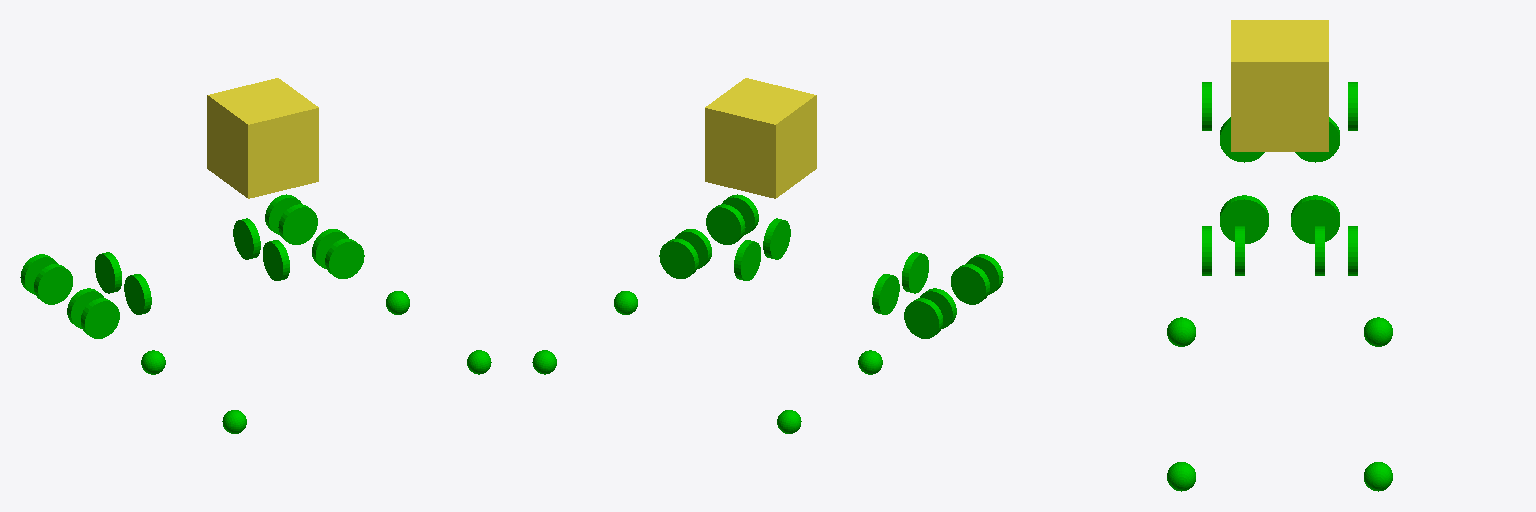
--- Facts derived from the render (not from the file) ---
3 views of the same robot in one strip: view 1: azimuth 30°, elevation 25°; view 2: azimuth 150°, elevation 25°; view 3: azimuth 270°, elevation 25° (orthographic).
Robot: b1_description — 32 links, 31 joints (12 revolute, 19 fixed); root link base_link; default pose: all joints at 0 but 4 set to mid-range because 0 is outside their limits (FR_calf_joint = -1.6, FL_calf_joint = -1.6, RR_calf_joint = -1.6, RL_calf_joint = -1.6).
Links seen in each view (by area): view 1: rslidar, FL_thigh_rotor, RL_thigh_rotor, RR_calf_rotor, FR_calf_rotor, RR_hip_rotor, FL_hip_rotor, RL_hip_rotor, FR_hip_rotor, RR_thigh_rotor, FL_calf_rotor, RL_calf_rotor (+1 smaller); view 2: rslidar, FR_thigh_rotor, RR_thigh_rotor, RL_calf_rotor, FL_calf_rotor, RL_hip_rotor, FR_hip_rotor, RR_hip_rotor, FL_hip_rotor, RL_thigh_rotor, FR_calf_rotor, RR_calf_rotor (+1 smaller); view 3: rslidar, FR_hip_rotor, FL_hip_rotor, RR_foot, RL_foot, FR_foot, FL_foot, RR_hip_rotor, RL_hip_rotor.
Boxes of the visible links, <box> form: rslidar: <box>207,78,318,198</box>; FL_thigh_rotor: <box>278,204,317,244</box>; RL_thigh_rotor: <box>34,264,72,304</box>; RR_calf_rotor: <box>81,298,119,338</box>; FR_calf_rotor: <box>325,238,364,278</box>; RR_hip_rotor: <box>124,274,151,314</box>; FL_hip_rotor: <box>233,218,260,259</box>; RL_hip_rotor: <box>95,252,121,293</box>; FR_hip_rotor: <box>263,240,289,280</box>; RR_thigh_rotor: <box>67,288,103,328</box>; FL_calf_rotor: <box>265,194,301,234</box>; RL_calf_rotor: <box>20,254,57,294</box>; rslidar: <box>705,78,816,198</box>; FR_thigh_rotor: <box>706,204,745,244</box>; RR_thigh_rotor: <box>951,264,989,304</box>; RL_calf_rotor: <box>904,298,942,338</box>; FL_calf_rotor: <box>659,238,698,278</box>; RL_hip_rotor: <box>872,274,899,314</box>; FR_hip_rotor: <box>763,218,790,259</box>; RR_hip_rotor: <box>902,252,928,293</box>; FL_hip_rotor: <box>734,240,760,280</box>; RL_thigh_rotor: <box>920,288,956,328</box>; FR_calf_rotor: <box>722,194,758,234</box>; RR_calf_rotor: <box>966,254,1003,294</box>; rslidar: <box>1231,20,1328,151</box>; FR_hip_rotor: <box>1220,195,1268,243</box>; FL_hip_rotor: <box>1291,195,1339,243</box>; RR_foot: <box>1167,317,1195,346</box>; RL_foot: <box>1364,317,1392,346</box>; FR_foot: <box>1167,462,1195,491</box>; FL_foot: <box>1364,462,1392,491</box>; RR_hip_rotor: <box>1220,117,1264,162</box>; RL_hip_rotor: <box>1295,117,1339,162</box>.
Bounding box of the posed robot: 1.12 × 0.4575 × 0.7698 m (x, y, z).
0 mesh visuals loaded from 5 distinct referenced files (none loaded); not drawn: 13 (reference not matched to a file when rendering).

URDF robot description (b1_description):
<?xml version="1.0" ?>
<!-- =================================================================================== -->
<!-- |    This document was autogenerated by xacro from robot.xacro                    | -->
<!-- |    EDITING THIS FILE BY HAND IS NOT RECOMMENDED                                 | -->
<!-- =================================================================================== -->
<robot name="b1_description">
  <material name="black">
    <color rgba="0.0 0.0 0.0 1.0"/>
  </material>
  <material name="blue">
    <color rgba="0.0 0.0 0.8 1.0"/>
  </material>
  <material name="green">
    <color rgba="0.0 0.8 0.0 1.0"/>
  </material>
  <material name="grey">
    <color rgba="0.2 0.2 0.2 1.0"/>
  </material>
  <material name="silver">
    <color rgba="0.9137254901960784 0.9137254901960784 0.8470588235294118 1.0"/>
  </material>
  <material name="orange">
    <color rgba="1.0 0.4235294117647059 0.0392156862745098 1.0"/>
  </material>
  <material name="brown">
    <color rgba="0.8705882352941177 0.8117647058823529 0.7647058823529411 1.0"/>
  </material>
  <material name="red">
    <color rgba="0.8 0.0 0.0 1.0"/>
  </material>
  <material name="white">
    <color rgba="1.0 1.0 1.0 1.0"/>
  </material>
  <!-- ros_control plugin -->
  <gazebo>
    <plugin filename="libgazebo_ros_control.so" name="gazebo_ros_control">
      <robotNamespace>/b1_gazebo</robotNamespace>
      <robotSimType>gazebo_ros_control/DefaultRobotHWSim</robotSimType>
    </plugin>
  </gazebo>
  <!-- Show the trajectory of trunk center. -->
  <gazebo>
    <plugin filename="libLinkPlot3DPlugin.so" name="3dplot">
      <frequency>10</frequency>
      <plot>
        <link>base</link>
        <pose>0 0 0 0 0 0</pose>
        <material>Gazebo/Yellow</material>
      </plot>
    </plugin>
  </gazebo>
  <!-- Show the trajectory of foot. You can add another trajectory about another foot. -->
  <!-- <gazebo>
        <plugin name="3dplot" filename="libLinkPlot3DPlugin.so">
            <frequency>100</frequency>
            <plot>
                <link>FL_foot</link>
                <pose>0 0 0 0 0 0</pose>
                <material>Gazebo/Green</material>
            </plot>
        </plugin>
    </gazebo> -->
  <gazebo>
    <plugin filename="libgazebo_ros_force.so" name="gazebo_ros_force">
      <bodyName>trunk</bodyName>
      <topicName>/apply_force/trunk</topicName>
    </plugin>
  </gazebo>
  <gazebo reference="imu_link">
    <gravity>true</gravity>
    <sensor name="imu_sensor" type="imu">
      <always_on>true</always_on>
      <update_rate>1000</update_rate>
      <visualize>true</visualize>
      <topic>__default_topic__</topic>
      <plugin filename="libgazebo_ros_imu_sensor.so" name="imu_plugin">
        <topicName>trunk_imu</topicName>
        <bodyName>imu_link</bodyName>
        <updateRateHZ>1000.0</updateRateHZ>
        <gaussianNoise>0.0</gaussianNoise>
        <xyzOffset>0 0 0</xyzOffset>
        <rpyOffset>0 0 0</rpyOffset>
        <frameName>imu_link</frameName>
      </plugin>
      <pose>0 0 0 0 0 0</pose>
    </sensor>
  </gazebo>
  <!-- Foot contacts. -->
  <gazebo reference="FR_calf">
    <sensor name="FR_foot_contact" type="contact">
      <update_rate>100</update_rate>
      <plugin filename="libunitreeFootContactPlugin.so" name="contactPlugin"/>
      <contact>
        <collision>FR_calf_fixed_joint_lump__FR_foot_collision_1</collision>
      </contact>
    </sensor>
  </gazebo>
  <gazebo reference="FL_calf">
    <sensor name="FL_foot_contact" type="contact">
      <update_rate>100</update_rate>
      <plugin filename="libunitreeFootContactPlugin.so" name="contactPlugin"/>
      <contact>
        <collision>FL_calf_fixed_joint_lump__FL_foot_collision_1</collision>
      </contact>
    </sensor>
  </gazebo>
  <gazebo reference="RR_calf">
    <sensor name="RR_foot_contact" type="contact">
      <update_rate>100</update_rate>
      <plugin filename="libunitreeFootContactPlugin.so" name="contactPlugin"/>
      <contact>
        <collision>RR_calf_fixed_joint_lump__RR_foot_collision_1</collision>
      </contact>
    </sensor>
  </gazebo>
  <gazebo reference="RL_calf">
    <sensor name="RL_foot_contact" type="contact">
      <update_rate>100</update_rate>
      <plugin filename="libunitreeFootContactPlugin.so" name="contactPlugin"/>
      <contact>
        <collision>RL_calf_fixed_joint_lump__RL_foot_collision_1</collision>
      </contact>
    </sensor>
  </gazebo>
  <!-- Visualization of Foot contacts. -->
  <gazebo reference="FR_foot">
    <visual>
      <plugin filename="libunitreeDrawForcePlugin.so" name="drawForcePlugin">
        <topicName>FR_foot_contact</topicName>
      </plugin>
    </visual>
  </gazebo>
  <gazebo reference="FL_foot">
    <visual>
      <plugin filename="libunitreeDrawForcePlugin.so" name="drawForcePlugin">
        <topicName>FL_foot_contact</topicName>
      </plugin>
    </visual>
  </gazebo>
  <gazebo reference="RR_foot">
    <visual>
      <plugin filename="libunitreeDrawForcePlugin.so" name="drawForcePlugin">
        <topicName>RR_foot_contact</topicName>
      </plugin>
    </visual>
  </gazebo>
  <gazebo reference="RL_foot">
    <visual>
      <plugin filename="libunitreeDrawForcePlugin.so" name="drawForcePlugin">
        <topicName>RL_foot_contact</topicName>
      </plugin>
    </visual>
  </gazebo>
  <gazebo reference="base">
    <material>Gazebo/Green</material>
    <turnGravityOff>false</turnGravityOff>
  </gazebo>
  <gazebo reference="trunk">
    <mu1>0.2</mu1>
    <mu2>0.2</mu2>
    <kp value="1000000.0"/>
    <kd value="1.0"/>
  </gazebo>
  <gazebo reference="stick_link">
    <mu1>0.2</mu1>
    <mu2>0.2</mu2>
    <material>Gazebo/White</material>
  </gazebo>
  <gazebo reference="imu_link">
    <mu1>0.2</mu1>
    <mu2>0.2</mu2>
    <material>Gazebo/Red</material>
  </gazebo>
  <!-- FL leg -->
  <gazebo reference="FL_hip">
    <mu1>0.2</mu1>
    <mu2>0.2</mu2>
    <material>Gazebo/DarkGrey</material>
  </gazebo>
  <gazebo reference="FL_thigh">
    <mu1>0.2</mu1>
    <mu2>0.2</mu2>
    <self_collide>1</self_collide>
    <material>Gazebo/DarkGrey</material>
    <kp value="1000000.0"/>
    <kd value="1.0"/>
  </gazebo>
  <gazebo reference="FL_calf">
    <mu1>0.2</mu1>
    <mu2>0.2</mu2>
    <self_collide>1</self_collide>
  </gazebo>
  <gazebo reference="FL_foot">
    <mu1>0.6</mu1>
    <mu2>0.6</mu2>
    <self_collide>1</self_collide>
    <material>Gazebo/DarkGrey</material>
    <kp value="1000000.0"/>
    <kd value="1.0"/>
  </gazebo>
  <!-- FR leg -->
  <gazebo reference="FR_hip">
    <mu1>0.2</mu1>
    <mu2>0.2</mu2>
    <material>Gazebo/DarkGrey</material>
  </gazebo>
  <gazebo reference="FR_thigh">
    <mu1>0.2</mu1>
    <mu2>0.2</mu2>
    <self_collide>1</self_collide>
    <material>Gazebo/DarkGrey</material>
    <kp value="1000000.0"/>
    <kd value="1.0"/>
  </gazebo>
  <gazebo reference="FR_calf">
    <mu1>0.2</mu1>
    <mu2>0.2</mu2>
    <self_collide>1</self_collide>
  </gazebo>
  <gazebo reference="FR_foot">
    <mu1>0.6</mu1>
    <mu2>0.6</mu2>
    <self_collide>1</self_collide>
    <material>Gazebo/DarkGrey</material>
    <kp value="1000000.0"/>
    <kd value="1.0"/>
  </gazebo>
  <!-- RL leg -->
  <gazebo reference="RL_hip">
    <mu1>0.2</mu1>
    <mu2>0.2</mu2>
    <material>Gazebo/DarkGrey</material>
  </gazebo>
  <gazebo reference="RL_thigh">
    <mu1>0.2</mu1>
    <mu2>0.2</mu2>
    <self_collide>1</self_collide>
    <material>Gazebo/DarkGrey</material>
    <kp value="1000000.0"/>
    <kd value="1.0"/>
  </gazebo>
  <gazebo reference="RL_calf">
    <mu1>0.2</mu1>
    <mu2>0.2</mu2>
    <self_collide>1</self_collide>
  </gazebo>
  <gazebo reference="RL_foot">
    <mu1>0.6</mu1>
    <mu2>0.6</mu2>
    <self_collide>1</self_collide>
    <material>Gazebo/DarkGrey</material>
    <kp value="1000000.0"/>
    <kd value="1.0"/>
  </gazebo>
  <!-- RR leg -->
  <gazebo reference="RR_hip">
    <mu1>0.2</mu1>
    <mu2>0.2</mu2>
    <material>Gazebo/DarkGrey</material>
  </gazebo>
  <gazebo reference="RR_thigh">
    <mu1>0.2</mu1>
    <mu2>0.2</mu2>
    <self_collide>1</self_collide>
    <material>Gazebo/DarkGrey</material>
    <kp value="1000000.0"/>
    <kd value="1.0"/>
  </gazebo>
  <gazebo reference="RR_calf">
    <mu1>0.2</mu1>
    <mu2>0.2</mu2>
    <self_collide>1</self_collide>
  </gazebo>
  <gazebo reference="RR_foot">
    <mu1>0.6</mu1>
    <mu2>0.6</mu2>
    <self_collide>1</self_collide>
    <material>Gazebo/DarkGrey</material>
    <kp value="1000000.0"/>
    <kd value="1.0"/>
  </gazebo>
  <!-- Rotor related joint and link is only for demonstrate location. -->
  <!-- Actually, the rotor will rotate and the joint is not fixed. Reduction ratio should be considered. -->
  <link name="base_link">
    <visual>
      <origin rpy="0 0 0" xyz="0 0 0"/>
      <geometry>
        <box size="0.001 0.001 0.001"/>
      </geometry>
    </visual>
  </link>
  <joint name="floating_base" type="fixed">
    <origin rpy="0 0 0" xyz="0 0 0"/>
    <parent link="base_link"/>
    <child link="trunk"/>
  </joint>
  <link name="trunk">
    <visual>
      <origin rpy="0 0 0" xyz="0 0 0"/>
      <geometry>
        <mesh filename="package://b1_description/meshes/visual/trunk.dae" scale="1 1 1"/>
      </geometry>
      <material name="orange"/>
    </visual>
    <collision>
      <origin rpy="0 0 0" xyz="0 0 0"/>
      <geometry>
        <box size="0.647 0.3 0.15"/>
      </geometry>
    </collision>
    <!-- <collision>
            <origin rpy="0 0 0" xyz="0 0 0"/>
            <geometry>
                <mesh filename="package://b1_description/meshes/visual/trunk.dae" scale="1 1 1"/>
            </geometry>
        </collision> -->
    <inertial>
      <origin rpy="0 0 0" xyz="0.008987 0.002243 0.003013"/>
      <mass value="25"/>
      <inertia ixx="0.183142146" ixy="-0.001379002" ixz="-0.027956055" iyy="0.756327752" iyz="0.000193774" izz="0.783777558"/>
    </inertial>
  </link>
  <joint name="imu_joint" type="fixed">
    <parent link="trunk"/>
    <child link="imu_link"/>
    <origin rpy="0 0 0" xyz="0 0 0"/>
  </joint>
  <link name="imu_link">
    <inertial>
      <mass value="0.001"/>
      <origin rpy="0 0 0" xyz="0 0 0"/>
      <inertia ixx="0.0001" ixy="0" ixz="0" iyy="0.0001" iyz="0" izz="0.0001"/>
    </inertial>
    <visual>
      <origin rpy="0 0 0" xyz="0 0 0"/>
      <geometry>
        <box size="0.001 0.001 0.001"/>
      </geometry>
      <material name="red"/>
    </visual>
    <collision>
      <origin rpy="0 0 0" xyz="0 0 0"/>
      <geometry>
        <box size=".001 .001 .001"/>
      </geometry>
    </collision>
  </link>
  <link name="rslidar">
    <visual>
      <origin rpy="0 0 0" xyz="0 0 0"/>
      <geometry>
        <box size="0.2 0.2 0.2"/>
      </geometry>
    </visual>
  </link>
  <joint name="lidar_joint" type="fixed">
    <parent link="imu_link"/>
    <child link="rslidar"/>
    <origin rpy="0 0 0" xyz="0.2 0 0.3"/>
  </joint>
  <joint name="FR_hip_joint" type="revolute">
    <origin rpy="0 0 0" xyz="0.3455 -0.072 0"/>
    <parent link="trunk"/>
    <child link="FR_hip"/>
    <axis xyz="1 0 0"/>
    <dynamics damping="0" friction="0"/>
    <limit effort="91.0035" lower="-0.75" upper="0.75" velocity="19.69"/>
  </joint>
  <joint name="FR_hip_rotor_joint" type="fixed">
    <origin rpy="0 0 0" xyz="0.1955 -0.072 0"/>
    <parent link="trunk"/>
    <child link="FR_hip_rotor"/>
  </joint>
  <link name="FR_hip">
    <visual>
      <origin rpy="3.141592653589793 0 0" xyz="0 0 0"/>
      <geometry>
        <mesh filename="package://b1_description/meshes/visual/hip.dae" scale="1 1 1"/>
      </geometry>
      <material name="orange"/>
    </visual>
    <collision>
      <origin rpy="1.5707963267948966 0 0" xyz="0 -0.12675 0"/>
      <geometry>
        <cylinder length="0.04" radius="0.09"/>
      </geometry>
    </collision>
    <inertial>
      <origin rpy="0 0 0" xyz="-0.020298 -0.009758 0.000109"/>
      <mass value="2.1"/>
      <inertia ixx="0.00406608" ixy="0.000288071" ixz="-4.371e-06" iyy="0.008775259" iyz="-1.811e-06" izz="0.006060348"/>
    </inertial>
  </link>
  <link name="FR_hip_rotor">
    <visual>
      <origin rpy="0 1.5707963267948966 0" xyz="0 0 0"/>
      <geometry>
        <cylinder length="0.02" radius="0.05"/>
      </geometry>
      <material name="green"/>
    </visual>
    <!-- <collision>
                <origin rpy="0 ${PI/2.0} 0" xyz="0 0 0"/>
                <geometry>
                    <cylinder length="0.02" radius="0.05"/>
                </geometry>
            </collision> -->
    <inertial>
      <origin rpy="0 0 0" xyz="0.0 0.0 0.0"/>
      <mass value="0.199"/>
      <inertia ixx="0.00039249" ixy="0.0" ixz="0.0" iyy="0.000219397" iyz="0.0" izz="0.000219397"/>
    </inertial>
  </link>
  <joint name="FR_thigh_joint" type="revolute">
    <origin rpy="0 0 0" xyz="0 -0.12675 0"/>
    <parent link="FR_hip"/>
    <child link="FR_thigh"/>
    <axis xyz="0 1 0"/>
    <dynamics damping="0" friction="0"/>
    <limit effort="93.33" lower="-1.0" upper="3.5" velocity="23.32"/>
  </joint>
  <joint name="FR_thigh_rotor_joint" type="fixed">
    <origin rpy="0 0 0" xyz="0.0 -0.00935 0"/>
    <parent link="FR_hip"/>
    <child link="FR_thigh_rotor"/>
  </joint>
  <link name="FR_thigh">
    <visual>
      <origin rpy="0 0 0" xyz="0 0 0"/>
      <geometry>
        <mesh filename="package://b1_description/meshes/visual/thigh_mirror.dae" scale="1 1 1"/>
      </geometry>
      <material name="orange"/>
    </visual>
    <collision>
      <origin rpy="0 1.5707963267948966 0" xyz="0 0 -0.175"/>
      <geometry>
        <box size="0.35 0.05 0.08"/>
      </geometry>
    </collision>
    <inertial>
      <origin rpy="0 0 0" xyz="-0.000235 0.028704 -0.054169"/>
      <mass value="3.934"/>
      <inertia ixx="0.044459086" ixy="-0.000128738" ixz="-0.002343913" iyy="0.046023457" iyz="-0.006032996" izz="0.008696078"/>
    </inertial>
  </link>
  <link name="FR_thigh_rotor">
    <visual>
      <origin rpy="1.5707963267948966 0 0" xyz="0 0 0"/>
      <geometry>
        <cylinder length="0.02" radius="0.05"/>
      </geometry>
      <material name="green"/>
    </visual>
    <!-- <collision>
                <origin rpy="${PI/2.0} 0 0" xyz="0 0 0"/>
                <geometry>
                    <cylinder length="0.02" radius="0.05"/>
                </geometry>
            </collision> -->
    <inertial>
      <origin rpy="0 0 0" xyz="0.0 0.0 0.0"/>
      <mass value="0.266"/>
      <inertia ixx="0.000485657" ixy="0.0" ixz="0.0" iyy="0.00091885" iyz="0.0" izz="0.000485657"/>
    </inertial>
  </link>
  <joint name="FR_calf_joint" type="revolute">
    <origin rpy="0 0 0" xyz="0 0 -0.35"/>
    <parent link="FR_thigh"/>
    <child link="FR_calf"/>
    <axis xyz="0 1 0"/>
    <dynamics damping="0" friction="0"/>
    <limit effort="140" lower="-2.6" upper="-0.6" velocity="15.55"/>
  </joint>
  <joint name="FR_calf_rotor_joint" type="fixed">
    <origin rpy="0 0 0" xyz="0.0 0.0519 0"/>
    <parent link="FR_thigh"/>
    <child link="FR_calf_rotor"/>
  </joint>
  <link name="FR_calf">
    <visual>
      <origin rpy="0 0 0" xyz="0 0 0"/>
      <geometry>
        <mesh filename="package://b1_description/meshes/visual/calf.dae" scale="1 1 1"/>
      </geometry>
      <material name="orange"/>
    </visual>
    <collision>
      <origin rpy="0 1.5707963267948966 0" xyz="0 0 -0.175"/>
      <geometry>
        <box size="0.35 0.04 0.05"/>
      </geometry>
    </collision>
    <inertial>
      <origin rpy="0 0 0" xyz="0.005237 0.0 -0.202805"/>
      <mass value="0.857"/>
      <inertia ixx="0.015011003" ixy="5.2e-08" ixz="0.000250042" iyy="0.015159462" iyz="4.61e-07" izz="0.000375749"/>
    </inertial>
  </link>
  <link name="FR_calf_rotor">
    <visual>
      <origin rpy="1.5707963267948966 0 0" xyz="0 0 0"/>
      <geometry>
        <cylinder length="0.02" radius="0.05"/>
      </geometry>
      <material name="green"/>
    </visual>
    <!-- <collision>
                <origin rpy="${PI/2.0} 0 0" xyz="0 0 0"/>
                <geometry>
                    <cylinder length="0.02" radius="0.05"/>
                </geometry>
            </collision> -->
    <inertial>
      <origin rpy="0 0 0" xyz="0.0 0.0 0.0"/>
      <mass value="0.266"/>
      <inertia ixx="0.000485657" ixy="0.0" ixz="0.0" iyy="0.00091885" iyz="0.0" izz="0.000485657"/>
    </inertial>
  </link>
  <joint name="FR_foot_fixed" type="fixed">
    <origin rpy="0 0 0" xyz="0 0 -0.35"/>
    <parent link="FR_calf"/>
    <child link="FR_foot"/>
  </joint>
  <link name="FR_foot">
    <visual>
      <origin rpy="0 0 0" xyz="0 0 0"/>
      <geometry>
        <sphere radius="0.03"/>
      </geometry>
      <material name="green"/>
    </visual>
    <collision>
      <origin rpy="0 0 0" xyz="0 0 0"/>
      <geometry>
        <sphere radius="0.04"/>
      </geometry>
    </collision>
    <inertial>
      <mass value="0.05"/>
      <inertia ixx="3.2000000000000005e-05" ixy="0.0" ixz="0.0" iyy="3.2000000000000005e-05" iyz="0.0" izz="3.2000000000000005e-05"/>
    </inertial>
  </link>
  <transmission name="FR_hip_tran">
    <type>transmission_interface/SimpleTransmission</type>
    <joint name="FR_hip_joint">
      <hardwareInterface>hardware_interface/EffortJointInterface</hardwareInterface>
    </joint>
    <actuator name="FR_hip_motor">
      <hardwareInterface>hardware_interface/EffortJointInterface</hardwareInterface>
      <mechanicalReduction>1</mechanicalReduction>
    </actuator>
  </transmission>
  <transmission name="FR_thigh_tran">
    <type>transmission_interface/SimpleTransmission</type>
    <joint name="FR_thigh_joint">
      <hardwareInterface>hardware_interface/EffortJointInterface</hardwareInterface>
    </joint>
    <actuator name="FR_thigh_motor">
      <hardwareInterface>hardware_interface/EffortJointInterface</hardwareInterface>
      <mechanicalReduction>1</mechanicalReduction>
    </actuator>
  </transmission>
  <transmission name="FR_calf_tran">
    <type>transmission_interface/SimpleTransmission</type>
    <joint name="FR_calf_joint">
      <hardwareInterface>hardware_interface/EffortJointInterface</hardwareInterface>
    </joint>
    <actuator name="FR_calf_motor">
      <hardwareInterface>hardware_interface/EffortJointInterface</hardwareInterface>
      <mechanicalReduction>1</mechanicalReduction>
    </actuator>
  </transmission>
  <joint name="FL_hip_joint" type="revolute">
    <origin rpy="0 0 0" xyz="0.3455 0.072 0"/>
    <parent link="trunk"/>
    <child link="FL_hip"/>
    <axis xyz="1 0 0"/>
    <dynamics damping="0" friction="0"/>
    <limit effort="91.0035" lower="-0.75" upper="0.75" velocity="19.69"/>
  </joint>
  <joint name="FL_hip_rotor_joint" type="fixed">
    <origin rpy="0 0 0" xyz="0.1955 0.072 0"/>
    <parent link="trunk"/>
    <child link="FL_hip_rotor"/>
  </joint>
  <link name="FL_hip">
    <visual>
      <origin rpy="0 0 0" xyz="0 0 0"/>
      <geometry>
        <mesh filename="package://b1_description/meshes/visual/hip.dae" scale="1 1 1"/>
      </geometry>
      <material name="orange"/>
    </visual>
    <collision>
      <origin rpy="1.5707963267948966 0 0" xyz="0 0.12675 0"/>
      <geometry>
        <cylinder length="0.04" radius="0.09"/>
      </geometry>
    </collision>
    <inertial>
      <origin rpy="0 0 0" xyz="-0.020298 0.009758 0.000109"/>
      <mass value="2.1"/>
      <inertia ixx="0.00406608" ixy="-0.000288071" ixz="-4.371e-06" iyy="0.008775259" iyz="1.811e-06" izz="0.006060348"/>
    </inertial>
  </link>
  <link name="FL_hip_rotor">
    <visual>
      <origin rpy="0 1.5707963267948966 0" xyz="0 0 0"/>
      <geometry>
        <cylinder length="0.02" radius="0.05"/>
      </geometry>
      <material name="green"/>
    </visual>
    <!-- <collision>
                <origin rpy="0 ${PI/2.0} 0" xyz="0 0 0"/>
                <geometry>
                    <cylinder length="0.02" radius="0.05"/>
                </geometry>
            </collision> -->
    <inertial>
      <origin rpy="0 0 0" xyz="0.0 0.0 0.0"/>
      <mass value="0.199"/>
      <inertia ixx="0.00039249" ixy="0.0" ixz="0.0" iyy="0.000219397" iyz="0.0" izz="0.000219397"/>
    </inertial>
  </link>
  <joint name="FL_thigh_joint" type="revolute">
    <origin rpy="0 0 0" xyz="0 0.12675 0"/>
    <parent link="FL_hip"/>
    <child link="FL_thigh"/>
    <axis xyz="0 1 0"/>
    <dynamics damping="0" friction="0"/>
    <limit effort="93.33" lower="-1.0" upper="3.5" velocity="23.32"/>
  </joint>
  <joint name="FL_thigh_rotor_joint" type="fixed">
    <origin rpy="0 0 0" xyz="0.0 0.00935 0"/>
    <parent link="FL_hip"/>
    <child link="FL_thigh_rotor"/>
  </joint>
  <link name="FL_thigh">
    <visual>
      <origin rpy="0 0 0" xyz="0 0 0"/>
      <geometry>
        <mesh filename="package://b1_description/meshes/visual/thigh.dae" scale="1 1 1"/>
      </geometry>
      <material name="orange"/>
    </visual>
    <collision>
      <origin rpy="0 1.5707963267948966 0" xyz="0 0 -0.175"/>
      <geometry>
        <box size="0.35 0.05 0.08"/>
      </geometry>
    </collision>
    <inertial>
      <origin rpy="0 0 0" xyz="-0.000235 -0.028704 -0.054169"/>
      <mass value="3.934"/>
      <inertia ixx="0.044459086" ixy="0.000128738" ixz="-0.002343913" iyy="0.046023457" iyz="0.006032996" izz="0.008696078"/>
    </inertial>
  </link>
  <link name="FL_thigh_rotor">
    <visual>
      <origin rpy="1.5707963267948966 0 0" xyz="0 0 0"/>
      <geometry>
        <cylinder length="0.02" radius="0.05"/>
      </geometry>
      <material name="green"/>
    </visual>
    <!-- <collision>
                <origin rpy="${PI/2.0} 0 0" xyz="0 0 0"/>
                <geometry>
                    <cylinder length="0.02" radius="0.05"/>
                </geometry>
            </collision> -->
    <inertial>
      <origin rpy="0 0 0" xyz="0.0 0.0 0.0"/>
      <mass value="0.266"/>
      <inertia ixx="0.000485657" ixy="0.0" ixz="0.0" iyy="0.00091885" iyz="0.0" izz="0.000485657"/>
    </inertial>
  </link>
  <joint name="FL_calf_joint" type="revolute">
    <origin rpy="0 0 0" xyz="0 0 -0.35"/>
    <parent link="FL_thigh"/>
    <child link="FL_calf"/>
    <axis xyz="0 1 0"/>
    <dynamics damping="0" friction="0"/>
    <limit effort="140" lower="-2.6" upper="-0.6" velocity="15.55"/>
  </joint>
  <joint name="FL_calf_rotor_joint" type="fixed">
    <origin rpy="0 0 0" xyz="0.0 -0.0519 0"/>
    <parent link="FL_thigh"/>
    <child link="FL_calf_rotor"/>
  </joint>
  <link name="FL_calf">
    <visual>
      <origin rpy="0 0 0" xyz="0 0 0"/>
      <geometry>
        <mesh filename="package://b1_description/meshes/visual/calf.dae" scale="1 1 1"/>
      </geometry>
      <material name="orange"/>
    </visual>
    <collision>
      <origin rpy="0 1.5707963267948966 0" xyz="0 0 -0.175"/>
      <geometry>
        <box size="0.35 0.04 0.05"/>
      </geometry>
    </collision>
    <inertial>
      <origin rpy="0 0 0" xyz="0.005237 0.0 -0.202805"/>
      <mass value="0.857"/>
      <inertia ixx="0.015011003" ixy="5.2e-08" ixz="0.000250042" iyy="0.015159462" iyz="4.61e-07" izz="0.000375749"/>
    </inertial>
  </link>
  <link name="FL_calf_rotor">
    <visual>
      <origin rpy="1.5707963267948966 0 0" xyz="0 0 0"/>
      <geometry>
        <cylinder length="0.02" radius="0.05"/>
      </geometry>
      <material name="green"/>
    </visual>
    <!-- <collision>
                <origin rpy="${PI/2.0} 0 0" xyz="0 0 0"/>
                <geometry>
                    <cylinder length="0.02" radius="0.05"/>
                </geometry>
            </collision> -->
    <inertial>
      <origin rpy="0 0 0" xyz="0.0 0.0 0.0"/>
      <mass value="0.266"/>
      <inertia ixx="0.000485657" ixy="0.0" ixz="0.0" iyy="0.00091885" iyz="0.0" izz="0.000485657"/>
    </inertial>
  </link>
  <joint name="FL_foot_fixed" type="fixed">
    <origin rpy="0 0 0" xyz="0 0 -0.35"/>
    <parent link="FL_calf"/>
    <child link="FL_foot"/>
  </joint>
  <link name="FL_foot">
    <visual>
      <origin rpy="0 0 0" xyz="0 0 0"/>
      <geometry>
        <sphere radius="0.03"/>
      </geometry>
      <material name="green"/>
    </visual>
    <collision>
      <origin rpy="0 0 0" xyz="0 0 0"/>
      <geometry>
        <sphere radius="0.04"/>
      </geometry>
    </collision>
    <inertial>
      <mass value="0.05"/>
      <inertia ixx="3.2000000000000005e-05" ixy="0.0" ixz="0.0" iyy="3.2000000000000005e-05" iyz="0.0" izz="3.2000000000000005e-05"/>
    </inertial>
  </link>
  <transmission name="FL_hip_tran">
    <type>transmission_interface/SimpleTransmission</type>
    <joint name="FL_hip_joint">
      <hardwareInterface>hardware_interface/EffortJointInterface</hardwareInterface>
    </joint>
    <actuator name="FL_hip_motor">
      <hardwareInterface>hardware_interface/EffortJointInterface</hardwareInterface>
      <mechanicalReduction>1</mechanicalReduction>
    </actuator>
  </transmission>
  <transmission name="FL_thigh_tran">
    <type>transmission_interface/SimpleTransmission</type>
    <joint name="FL_thigh_joint">
      <hardwareInterface>hardware_interface/EffortJointInterface</hardwareInterface>
    </joint>
    <actuator name="FL_thigh_motor">
      <hardwareInterface>hardware_interface/EffortJointInterface</hardwareInterface>
      <mechanicalReduction>1</mechanicalReduction>
    </actuator>
  </transmission>
  <transmission name="FL_calf_tran">
    <type>transmission_interface/SimpleTransmission</type>
    <joint name="FL_calf_joint">
      <hardwareInterface>hardware_interface/EffortJointInterface</hardwareInterface>
    </joint>
    <actuator name="FL_calf_motor">
      <hardwareInterface>hardware_interface/EffortJointInterface</hardwareInterface>
      <mechanicalReduction>1</mechanicalReduction>
    </actuator>
  </transmission>
  <joint name="RR_hip_joint" type="revolute">
    <origin rpy="0 0 0" xyz="-0.3455 -0.072 0"/>
    <parent link="trunk"/>
    <child link="RR_hip"/>
    <axis xyz="1 0 0"/>
    <dynamics damping="0" friction="0"/>
    <limit effort="91.0035" lower="-0.75" upper="0.75" velocity="19.69"/>
  </joint>
  <joint name="RR_hip_rotor_joint" type="fixed">
    <origin rpy="0 0 0" xyz="-0.1955 -0.072 0"/>
    <parent link="trunk"/>
    <child link="RR_hip_rotor"/>
  </joint>
  <link name="RR_hip">
    <visual>
      <origin rpy="3.141592653589793 3.141592653589793 0" xyz="0 0 0"/>
      <geometry>
        <mesh filename="package://b1_description/meshes/visual/hip.dae" scale="1 1 1"/>
      </geometry>
      <material name="orange"/>
    </visual>
    <collision>
      <origin rpy="1.5707963267948966 0 0" xyz="0 -0.12675 0"/>
      <geometry>
        <cylinder length="0.04" radius="0.09"/>
      </geometry>
    </collision>
    <inertial>
      <origin rpy="0 0 0" xyz="0.020298 -0.009758 0.000109"/>
      <mass value="2.1"/>
      <inertia ixx="0.00406608" ixy="-0.000288071" ixz="4.371e-06" iyy="0.008775259" iyz="-1.811e-06" izz="0.006060348"/>
    </inertial>
  </link>
  <link name="RR_hip_rotor">
    <visual>
      <origin rpy="0 1.5707963267948966 0" xyz="0 0 0"/>
      <geometry>
        <cylinder length="0.02" radius="0.05"/>
      </geometry>
      <material name="green"/>
    </visual>
    <!-- <collision>
                <origin rpy="0 ${PI/2.0} 0" xyz="0 0 0"/>
                <geometry>
                    <cylinder length="0.02" radius="0.05"/>
                </geometry>
            </collision> -->
    <inertial>
      <origin rpy="0 0 0" xyz="0.0 0.0 0.0"/>
      <mass value="0.199"/>
      <inertia ixx="0.00039249" ixy="0.0" ixz="0.0" iyy="0.000219397" iyz="0.0" izz="0.000219397"/>
    </inertial>
  </link>
  <joint name="RR_thigh_joint" type="revolute">
    <origin rpy="0 0 0" xyz="0 -0.12675 0"/>
    <parent link="RR_hip"/>
    <child link="RR_thigh"/>
    <axis xyz="0 1 0"/>
    <dynamics damping="0" friction="0"/>
    <limit effort="93.33" lower="-1.0" upper="3.5" velocity="23.32"/>
  </joint>
  <joint name="RR_thigh_rotor_joint" type="fixed">
    <origin rpy="0 0 0" xyz="0.0 -0.00935 0"/>
    <parent link="RR_hip"/>
    <child link="RR_thigh_rotor"/>
  </joint>
  <link name="RR_thigh">
    <visual>
      <origin rpy="0 0 0" xyz="0 0 0"/>
      <geometry>
        <mesh filename="package://b1_description/meshes/visual/thigh_mirror.dae" scale="1 1 1"/>
      </geometry>
      <material name="orange"/>
    </visual>
    <collision>
      <origin rpy="0 1.5707963267948966 0" xyz="0 0 -0.175"/>
      <geometry>
        <box size="0.35 0.05 0.08"/>
      </geometry>
    </collision>
    <inertial>
      <origin rpy="0 0 0" xyz="-0.000235 0.028704 -0.054169"/>
      <mass value="3.934"/>
      <inertia ixx="0.044459086" ixy="-0.000128738" ixz="-0.002343913" iyy="0.046023457" iyz="-0.006032996" izz="0.008696078"/>
    </inertial>
  </link>
  <link name="RR_thigh_rotor">
    <visual>
      <origin rpy="1.5707963267948966 0 0" xyz="0 0 0"/>
      <geometry>
        <cylinder length="0.02" radius="0.05"/>
      </geometry>
      <material name="green"/>
    </visual>
    <!-- <collision>
                <origin rpy="${PI/2.0} 0 0" xyz="0 0 0"/>
                <geometry>
                    <cylinder length="0.02" radius="0.05"/>
                </geometry>
            </collision> -->
    <inertial>
      <origin rpy="0 0 0" xyz="0.0 0.0 0.0"/>
      <mass value="0.266"/>
      <inertia ixx="0.000485657" ixy="0.0" ixz="0.0" iyy="0.00091885" iyz="0.0" izz="0.000485657"/>
    </inertial>
  </link>
  <joint name="RR_calf_joint" type="revolute">
    <origin rpy="0 0 0" xyz="0 0 -0.35"/>
    <parent link="RR_thigh"/>
    <child link="RR_calf"/>
    <axis xyz="0 1 0"/>
    <dynamics damping="0" friction="0"/>
    <limit effort="140" lower="-2.6" upper="-0.6" velocity="15.55"/>
  </joint>
  <joint name="RR_calf_rotor_joint" type="fixed">
    <origin rpy="0 0 0" xyz="0.0 0.0519 0"/>
    <parent link="RR_thigh"/>
    <child link="RR_calf_rotor"/>
  </joint>
  <link name="RR_calf">
    <visual>
      <origin rpy="0 0 0" xyz="0 0 0"/>
      <geometry>
        <mesh filename="package://b1_description/meshes/visual/calf.dae" scale="1 1 1"/>
      </geometry>
      <material name="orange"/>
    </visual>
    <collision>
      <origin rpy="0 1.5707963267948966 0" xyz="0 0 -0.175"/>
      <geometry>
        <box size="0.35 0.04 0.05"/>
      </geometry>
    </collision>
    <inertial>
      <origin rpy="0 0 0" xyz="0.005237 0.0 -0.202805"/>
      <mass value="0.857"/>
      <inertia ixx="0.015011003" ixy="5.2e-08" ixz="0.000250042" iyy="0.015159462" iyz="4.61e-07" izz="0.000375749"/>
    </inertial>
  </link>
  <link name="RR_calf_rotor">
    <visual>
      <origin rpy="1.5707963267948966 0 0" xyz="0 0 0"/>
      <geometry>
        <cylinder length="0.02" radius="0.05"/>
      </geometry>
      <material name="green"/>
    </visual>
    <!-- <collision>
                <origin rpy="${PI/2.0} 0 0" xyz="0 0 0"/>
                <geometry>
                    <cylinder length="0.02" radius="0.05"/>
                </geometry>
            </collision> -->
    <inertial>
      <origin rpy="0 0 0" xyz="0.0 0.0 0.0"/>
      <mass value="0.266"/>
      <inertia ixx="0.000485657" ixy="0.0" ixz="0.0" iyy="0.00091885" iyz="0.0" izz="0.000485657"/>
    </inertial>
  </link>
  <joint name="RR_foot_fixed" type="fixed">
    <origin rpy="0 0 0" xyz="0 0 -0.35"/>
    <parent link="RR_calf"/>
    <child link="RR_foot"/>
  </joint>
  <link name="RR_foot">
    <visual>
      <origin rpy="0 0 0" xyz="0 0 0"/>
      <geometry>
        <sphere radius="0.03"/>
      </geometry>
      <material name="green"/>
    </visual>
    <collision>
      <origin rpy="0 0 0" xyz="0 0 0"/>
      <geometry>
        <sphere radius="0.04"/>
      </geometry>
    </collision>
    <inertial>
      <mass value="0.05"/>
      <inertia ixx="3.2000000000000005e-05" ixy="0.0" ixz="0.0" iyy="3.2000000000000005e-05" iyz="0.0" izz="3.2000000000000005e-05"/>
    </inertial>
  </link>
  <transmission name="RR_hip_tran">
    <type>transmission_interface/SimpleTransmission</type>
    <joint name="RR_hip_joint">
      <hardwareInterface>hardware_interface/EffortJointInterface</hardwareInterface>
    </joint>
    <actuator name="RR_hip_motor">
      <hardwareInterface>hardware_interface/EffortJointInterface</hardwareInterface>
      <mechanicalReduction>1</mechanicalReduction>
    </actuator>
  </transmission>
  <transmission name="RR_thigh_tran">
    <type>transmission_interface/SimpleTransmission</type>
    <joint name="RR_thigh_joint">
      <hardwareInterface>hardware_interface/EffortJointInterface</hardwareInterface>
    </joint>
    <actuator name="RR_thigh_motor">
      <hardwareInterface>hardware_interface/EffortJointInterface</hardwareInterface>
      <mechanicalReduction>1</mechanicalReduction>
    </actuator>
  </transmission>
  <transmission name="RR_calf_tran">
    <type>transmission_interface/SimpleTransmission</type>
    <joint name="RR_calf_joint">
      <hardwareInterface>hardware_interface/EffortJointInterface</hardwareInterface>
    </joint>
    <actuator name="RR_calf_motor">
      <hardwareInterface>hardware_interface/EffortJointInterface</hardwareInterface>
      <mechanicalReduction>1</mechanicalReduction>
    </actuator>
  </transmission>
  <joint name="RL_hip_joint" type="revolute">
    <origin rpy="0 0 0" xyz="-0.3455 0.072 0"/>
    <parent link="trunk"/>
    <child link="RL_hip"/>
    <axis xyz="1 0 0"/>
    <dynamics damping="0" friction="0"/>
    <limit effort="91.0035" lower="-0.75" upper="0.75" velocity="19.69"/>
  </joint>
  <joint name="RL_hip_rotor_joint" type="fixed">
    <origin rpy="0 0 0" xyz="-0.1955 0.072 0"/>
    <parent link="trunk"/>
    <child link="RL_hip_rotor"/>
  </joint>
  <link name="RL_hip">
    <visual>
      <origin rpy="0 3.141592653589793 0" xyz="0 0 0"/>
      <geometry>
        <mesh filename="package://b1_description/meshes/visual/hip.dae" scale="1 1 1"/>
      </geometry>
      <material name="orange"/>
    </visual>
    <collision>
      <origin rpy="1.5707963267948966 0 0" xyz="0 0.12675 0"/>
      <geometry>
        <cylinder length="0.04" radius="0.09"/>
      </geometry>
    </collision>
    <inertial>
      <origin rpy="0 0 0" xyz="0.020298 0.009758 0.000109"/>
      <mass value="2.1"/>
      <inertia ixx="0.00406608" ixy="0.000288071" ixz="4.371e-06" iyy="0.008775259" iyz="1.811e-06" izz="0.006060348"/>
    </inertial>
  </link>
  <link name="RL_hip_rotor">
    <visual>
      <origin rpy="0 1.5707963267948966 0" xyz="0 0 0"/>
      <geometry>
        <cylinder length="0.02" radius="0.05"/>
      </geometry>
      <material name="green"/>
    </visual>
    <!-- <collision>
                <origin rpy="0 ${PI/2.0} 0" xyz="0 0 0"/>
                <geometry>
                    <cylinder length="0.02" radius="0.05"/>
                </geometry>
            </collision> -->
    <inertial>
      <origin rpy="0 0 0" xyz="0.0 0.0 0.0"/>
      <mass value="0.199"/>
      <inertia ixx="0.00039249" ixy="0.0" ixz="0.0" iyy="0.000219397" iyz="0.0" izz="0.000219397"/>
    </inertial>
  </link>
  <joint name="RL_thigh_joint" type="revolute">
    <origin rpy="0 0 0" xyz="0 0.12675 0"/>
    <parent link="RL_hip"/>
    <child link="RL_thigh"/>
    <axis xyz="0 1 0"/>
    <dynamics damping="0" friction="0"/>
    <limit effort="93.33" lower="-1.0" upper="3.5" velocity="23.32"/>
  </joint>
  <joint name="RL_thigh_rotor_joint" type="fixed">
    <origin rpy="0 0 0" xyz="0.0 0.00935 0"/>
    <parent link="RL_hip"/>
    <child link="RL_thigh_rotor"/>
  </joint>
  <link name="RL_thigh">
    <visual>
      <origin rpy="0 0 0" xyz="0 0 0"/>
      <geometry>
        <mesh filename="package://b1_description/meshes/visual/thigh.dae" scale="1 1 1"/>
      </geometry>
      <material name="orange"/>
    </visual>
    <collision>
      <origin rpy="0 1.5707963267948966 0" xyz="0 0 -0.175"/>
      <geometry>
        <box size="0.35 0.05 0.08"/>
      </geometry>
    </collision>
    <inertial>
      <origin rpy="0 0 0" xyz="-0.000235 -0.028704 -0.054169"/>
      <mass value="3.934"/>
      <inertia ixx="0.044459086" ixy="0.000128738" ixz="-0.002343913" iyy="0.046023457" iyz="0.006032996" izz="0.008696078"/>
    </inertial>
  </link>
  <link name="RL_thigh_rotor">
    <visual>
      <origin rpy="1.5707963267948966 0 0" xyz="0 0 0"/>
      <geometry>
        <cylinder length="0.02" radius="0.05"/>
      </geometry>
      <material name="green"/>
    </visual>
    <!-- <collision>
                <origin rpy="${PI/2.0} 0 0" xyz="0 0 0"/>
                <geometry>
                    <cylinder length="0.02" radius="0.05"/>
                </geometry>
            </collision> -->
    <inertial>
      <origin rpy="0 0 0" xyz="0.0 0.0 0.0"/>
      <mass value="0.266"/>
      <inertia ixx="0.000485657" ixy="0.0" ixz="0.0" iyy="0.00091885" iyz="0.0" izz="0.000485657"/>
    </inertial>
  </link>
  <joint name="RL_calf_joint" type="revolute">
    <origin rpy="0 0 0" xyz="0 0 -0.35"/>
    <parent link="RL_thigh"/>
    <child link="RL_calf"/>
    <axis xyz="0 1 0"/>
    <dynamics damping="0" friction="0"/>
    <limit effort="140" lower="-2.6" upper="-0.6" velocity="15.55"/>
  </joint>
  <joint name="RL_calf_rotor_joint" type="fixed">
    <origin rpy="0 0 0" xyz="0.0 -0.0519 0"/>
    <parent link="RL_thigh"/>
    <child link="RL_calf_rotor"/>
  </joint>
  <link name="RL_calf">
    <visual>
      <origin rpy="0 0 0" xyz="0 0 0"/>
      <geometry>
        <mesh filename="package://b1_description/meshes/visual/calf.dae" scale="1 1 1"/>
      </geometry>
      <material name="orange"/>
    </visual>
    <collision>
      <origin rpy="0 1.5707963267948966 0" xyz="0 0 -0.175"/>
      <geometry>
        <box size="0.35 0.04 0.05"/>
      </geometry>
    </collision>
    <inertial>
      <origin rpy="0 0 0" xyz="0.005237 0.0 -0.202805"/>
      <mass value="0.857"/>
      <inertia ixx="0.015011003" ixy="5.2e-08" ixz="0.000250042" iyy="0.015159462" iyz="4.61e-07" izz="0.000375749"/>
    </inertial>
  </link>
  <link name="RL_calf_rotor">
    <visual>
      <origin rpy="1.5707963267948966 0 0" xyz="0 0 0"/>
      <geometry>
        <cylinder length="0.02" radius="0.05"/>
      </geometry>
      <material name="green"/>
    </visual>
    <!-- <collision>
                <origin rpy="${PI/2.0} 0 0" xyz="0 0 0"/>
                <geometry>
                    <cylinder length="0.02" radius="0.05"/>
                </geometry>
            </collision> -->
    <inertial>
      <origin rpy="0 0 0" xyz="0.0 0.0 0.0"/>
      <mass value="0.266"/>
      <inertia ixx="0.000485657" ixy="0.0" ixz="0.0" iyy="0.00091885" iyz="0.0" izz="0.000485657"/>
    </inertial>
  </link>
  <joint name="RL_foot_fixed" type="fixed">
    <origin rpy="0 0 0" xyz="0 0 -0.35"/>
    <parent link="RL_calf"/>
    <child link="RL_foot"/>
  </joint>
  <link name="RL_foot">
    <visual>
      <origin rpy="0 0 0" xyz="0 0 0"/>
      <geometry>
        <sphere radius="0.03"/>
      </geometry>
      <material name="green"/>
    </visual>
    <collision>
      <origin rpy="0 0 0" xyz="0 0 0"/>
      <geometry>
        <sphere radius="0.04"/>
      </geometry>
    </collision>
    <inertial>
      <mass value="0.05"/>
      <inertia ixx="3.2000000000000005e-05" ixy="0.0" ixz="0.0" iyy="3.2000000000000005e-05" iyz="0.0" izz="3.2000000000000005e-05"/>
    </inertial>
  </link>
  <transmission name="RL_hip_tran">
    <type>transmission_interface/SimpleTransmission</type>
    <joint name="RL_hip_joint">
      <hardwareInterface>hardware_interface/EffortJointInterface</hardwareInterface>
    </joint>
    <actuator name="RL_hip_motor">
      <hardwareInterface>hardware_interface/EffortJointInterface</hardwareInterface>
      <mechanicalReduction>1</mechanicalReduction>
    </actuator>
  </transmission>
  <transmission name="RL_thigh_tran">
    <type>transmission_interface/SimpleTransmission</type>
    <joint name="RL_thigh_joint">
      <hardwareInterface>hardware_interface/EffortJointInterface</hardwareInterface>
    </joint>
    <actuator name="RL_thigh_motor">
      <hardwareInterface>hardware_interface/EffortJointInterface</hardwareInterface>
      <mechanicalReduction>1</mechanicalReduction>
    </actuator>
  </transmission>
  <transmission name="RL_calf_tran">
    <type>transmission_interface/SimpleTransmission</type>
    <joint name="RL_calf_joint">
      <hardwareInterface>hardware_interface/EffortJointInterface</hardwareInterface>
    </joint>
    <actuator name="RL_calf_motor">
      <hardwareInterface>hardware_interface/EffortJointInterface</hardwareInterface>
      <mechanicalReduction>1</mechanicalReduction>
    </actuator>
  </transmission>
  <!-- <xacro:stairs stairs="15" xpos="0" ypos="2.0" zpos="0" /> -->
</robot>
